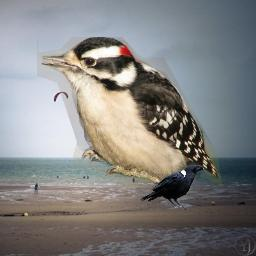Crow: (140, 165, 204, 211)
Woodpecker: (37, 37, 222, 199)
